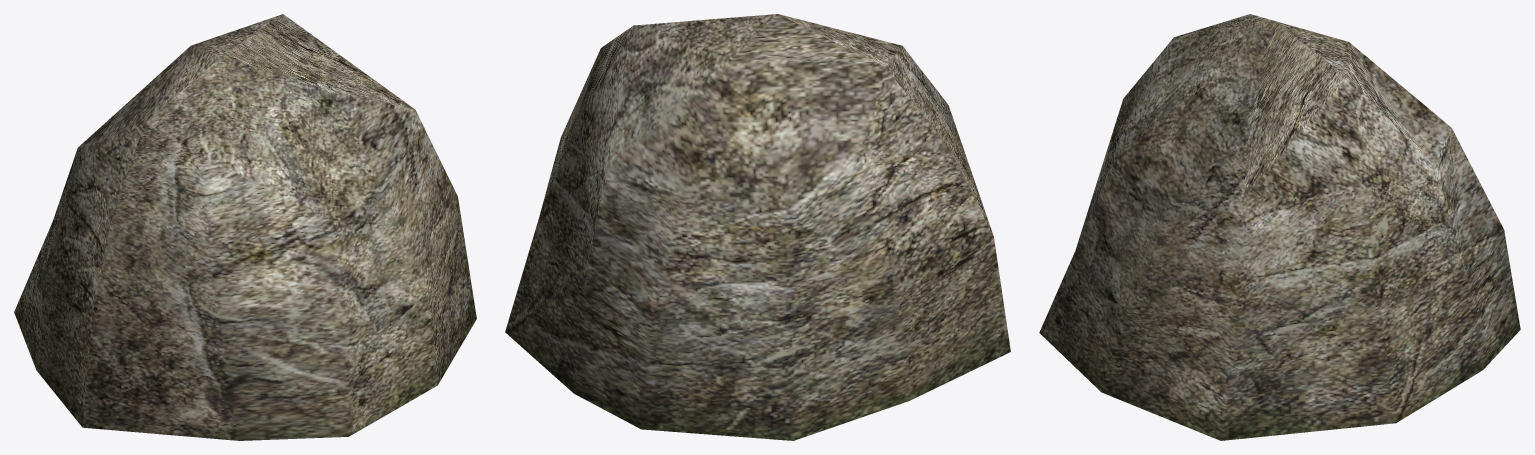
The model's file is general_obj_stone07.fbx.
3 renders of one model, left to right at view 1: azimuth 30°, elevation 25°; view 2: azimuth 150°, elevation 25°; view 3: azimuth 270°, elevation 25°, orthographic. The views are drawn at different scales.
Parts seen in each view (by area): view 1: Sphere01; view 2: Sphere01; view 3: Sphere01.
Part boxes in pixels (x1,y1,x2,y2): Sphere01: (14, 14, 476, 440); Sphere01: (505, 14, 1010, 440); Sphere01: (1039, 14, 1520, 440).
Size of the model in its own units: 3.67 by 2.58 by 3.68.
